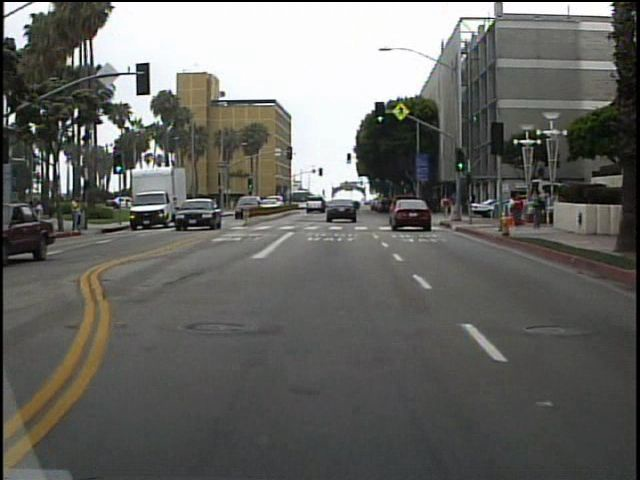person: (69, 193, 86, 238), (438, 194, 454, 219)
